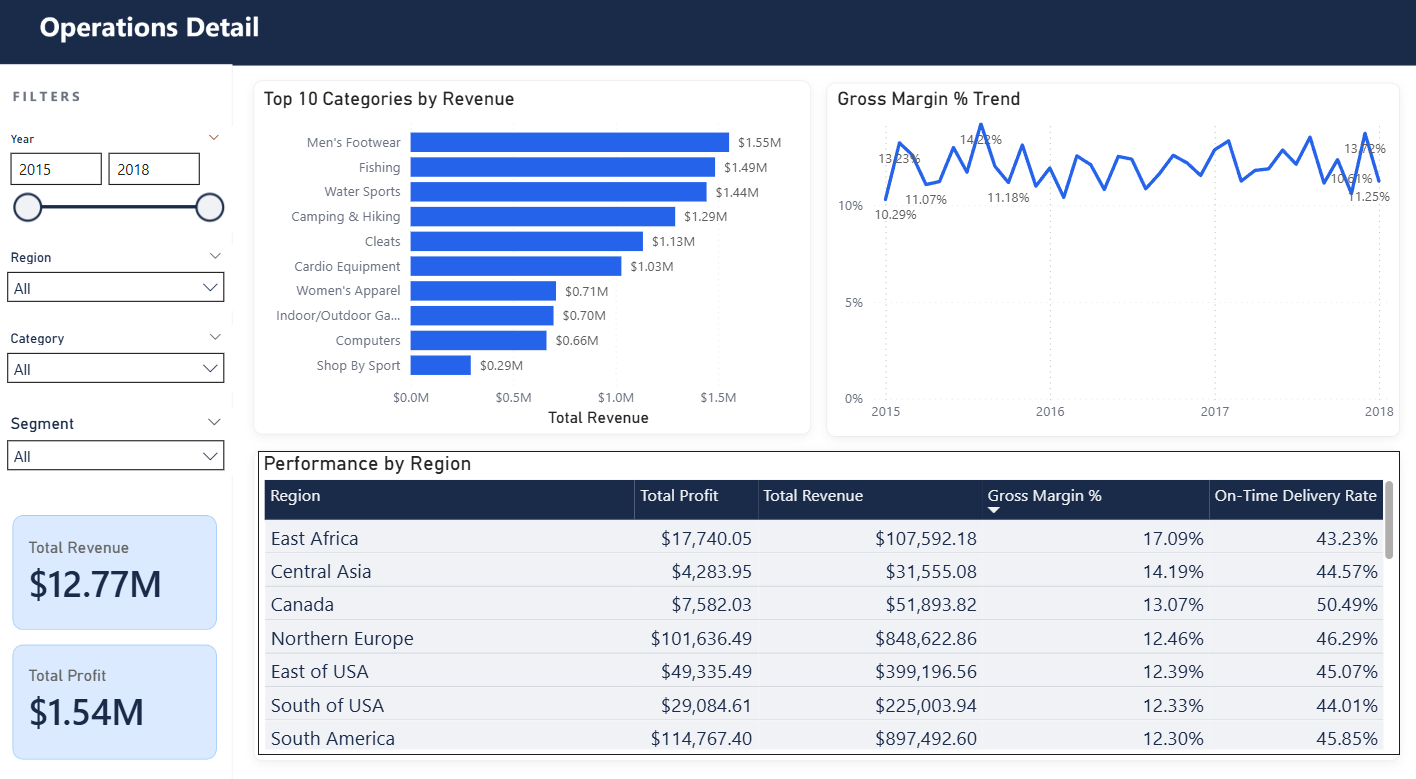

Layout of this report page (visuals, bound fields, positions):
{"tool":"powerbi","page":{"name":"Operations Detail","canvas":[1280,720],"ordinal":1},"visuals":[{"type":"slicer","fields":{"Values":["dim_date.full_date.Variation.Date Hierarchy.Year"]},"box":[0.3,120,213,95],"z":0},{"type":"slicer","fields":{"Values":["dim_region.region"]},"box":[0.3,226.1,215,60],"z":1000},{"type":"slicer","fields":{"Values":["dim_customer.customer_segment"]},"box":[0,374.2,215,60],"z":2000},{"type":"slicer","fields":{"Values":["dim_product.category"]},"box":[0.3,299.1,215,60],"z":3000},{"type":"barChart","title":"Top 10 Categories by Revenue","fields":{"Category":["dim_product.category"],"Y":["_Measures.Total Revenue"]},"box":[235.2,85.3,496.5,309.7],"z":4000},{"type":"lineChart","title":"Gross Margin % Trend","fields":{"Category":["dim_date.full_date.Variation.Date Hierarchy.Year","dim_date.full_date.Variation.Date Hierarchy.Quarter","dim_date.full_date.Variation.Date Hierarchy.Month"],"Y":["_Measures.Gross Margin %"]},"box":[750.5,85.3,509,309.7],"z":5000},{"type":"tableEx","title":"Performance by Region","fields":{"Values":["dim_region.region","_Measures.Total Profit","_Measures.Total Revenue","_Measures.Gross Margin %","_Measures.On-Time Delivery Rate"]},"box":[235.5,411.8,1024.5,272.7],"z":6000},{"type":"cardVisual","fields":{"Data":["_Measures.Total Profit"]},"box":[0,586.2,231.6,98.8],"z":7000},{"type":"cardVisual","fields":{"Data":["_Measures.Total Revenue"]},"box":[0,471.3,231.6,98.8],"z":8000}]}

Visuals, with their boxes in screenshot pixels (x1, y1, x2, y2), scaled from the page's 1280x720 canvas onto the 1416x779 screenshot:
slicer - dim_date.full_date.Variation.Date Hierarchy.Year: 0,130,236,233
slicer - dim_region.region: 0,245,238,310
slicer - dim_customer.customer_segment: 0,405,238,470
slicer - dim_product.category: 0,324,238,389
"Top 10 Categories by Revenue" barChart: 260,92,809,427
"Gross Margin % Trend" lineChart: 830,92,1393,427
"Performance by Region" tableEx: 261,446,1394,741
cardVisual - _Measures.Total Profit: 0,634,256,741
cardVisual - _Measures.Total Revenue: 0,510,256,617
